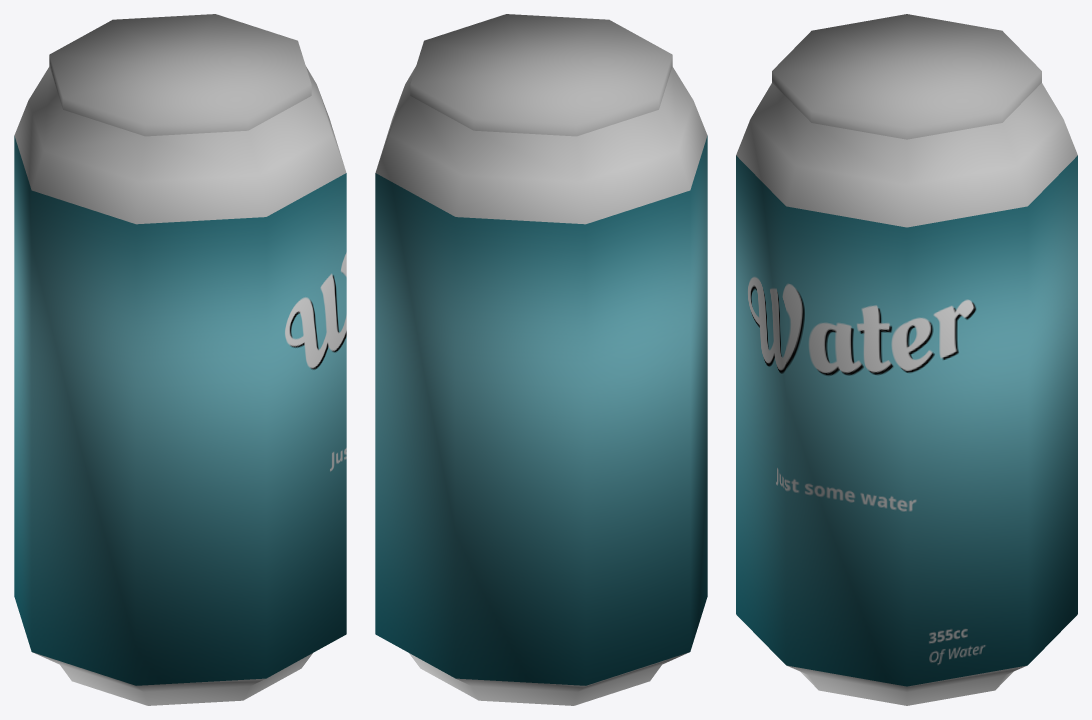
Rendered from lowpoly_can.fbx.
The picture shows the model from 3 angles, left to right: view 1: azimuth 30°, elevation 25°; view 2: azimuth 150°, elevation 25°; view 3: azimuth 270°, elevation 25°; orthographic projection.
Parts seen in each view (by area): view 1: Cilindro; view 2: Cilindro; view 3: Cilindro.
Boxes of the visible parts, x1=… form: Cilindro: x1=14, y1=14, x2=346, y2=705; Cilindro: x1=375, y1=14, x2=707, y2=705; Cilindro: x1=736, y1=14, x2=1077, y2=705.
Size of the model in its own units: 188 by 354 by 188.
Materials: 1 (1 with a texture image).
